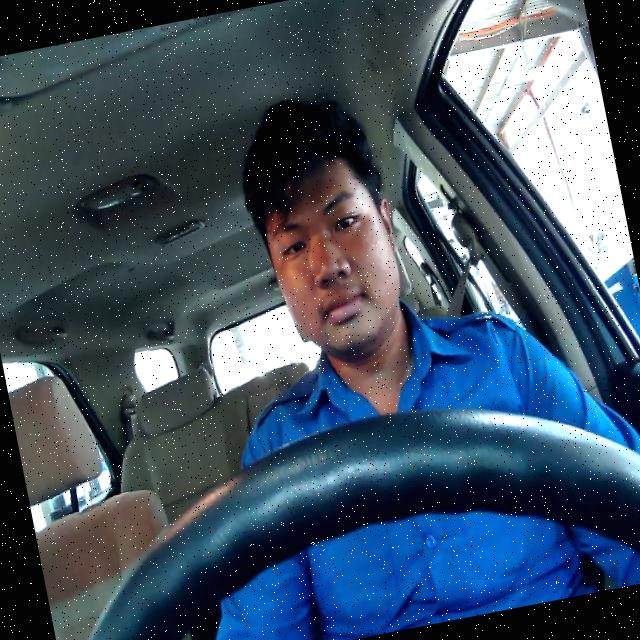focused: (251, 152, 414, 362)
